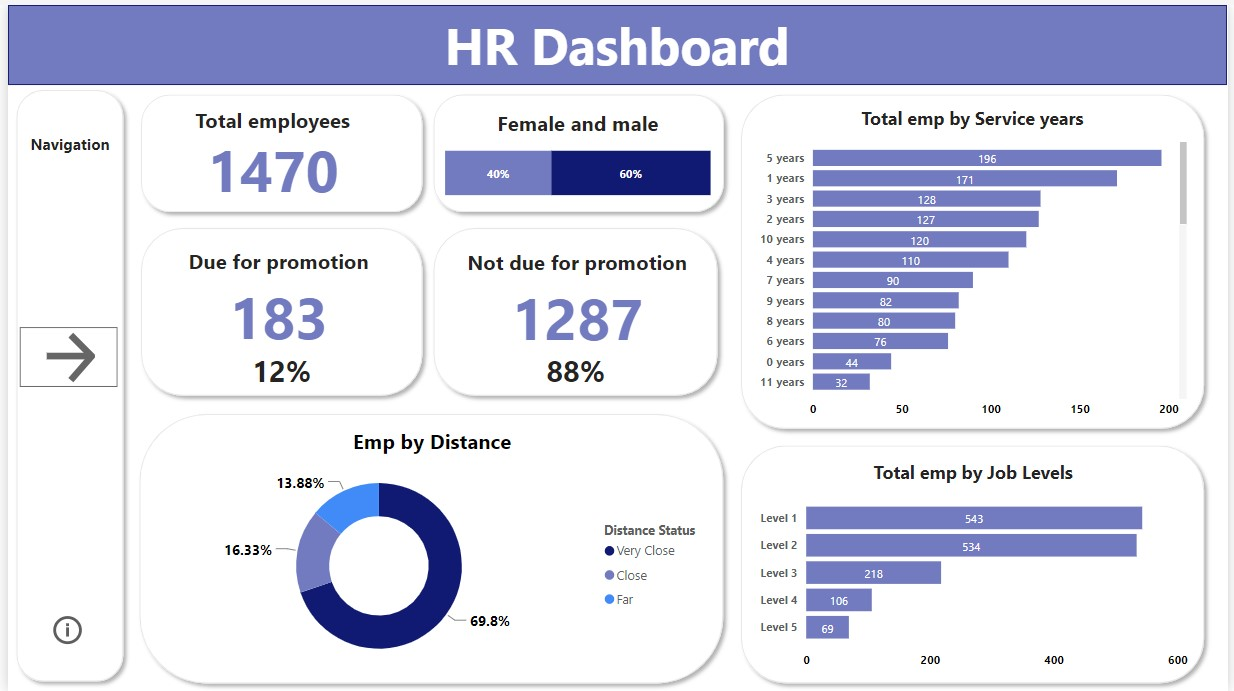

This screenshot's page, from the dashboard's own definition file:
{"tool":"powerbi","page":{"name":"Dashboard1","canvas":[1280,720],"ordinal":0},"visuals":[{"type":"shape","box":[128.7,419.6,631,300.4],"z":0},{"type":"shape","box":[0,0,1279.5,84.2],"z":1000},{"type":"textbox","box":[453,0,454.6,84.2],"z":2000},{"type":"shape","box":[0,81.1,130.3,638.9],"z":3000},{"type":"shape","box":[130.3,84.2,313.1,141.5],"z":4000},{"type":"shape","box":[437.1,84.2,322.6,141.5],"z":5000},{"type":"card","title":"Total employees","fields":{"Values":["All measures.Total emp"]},"box":[124,104.9,306.8,101.7],"z":6000},{"type":"barChart","title":"Female and male","fields":{"Y":["All measures.%Female","All measures.%male"]},"box":[453,108.1,289.3,98.5],"z":7000},{"type":"shape","box":[130.3,225.7,313.1,193.9],"z":8000},{"type":"card","title":"Due for promotion","fields":{"Values":["All measures.Due for promotion"]},"box":[130.3,252.7,306.8,112.8],"z":9000},{"type":"shape","box":[437.1,225.7,316.3,193.9],"z":10000},{"type":"card","title":"Not due for promotion","fields":{"Values":["All measures.Not due for promotion"]},"box":[443.4,254.3,306.8,112.8],"z":11000},{"type":"card","fields":{"Values":["All measures.%notdue"]},"box":[556.3,354.4,79.5,58.8],"z":12000},{"type":"card","fields":{"Values":["All measures.%due"]},"box":[247.9,354.4,79.5,58.8],"z":13000},{"type":"shape","box":[759.7,84.2,503.8,368.7],"z":14000},{"type":"barChart","fields":{"Y":["All measures.Total emp"],"Category":["HR Analytics Data.Service years"]},"box":[782,104.9,459.3,337],"z":15000},{"type":"shape","box":[759.7,453,503.8,267],"z":16000},{"type":"barChart","fields":{"Category":["HR Analytics Data.Job Levels"],"Y":["All measures.Total emp"]},"box":[782,476.8,460.9,228.9],"z":17000},{"type":"donutChart","title":"Emp by Distance","fields":{"Category":["HR Analytics Data.Distance Status"],"Y":["All measures.Total emp"]},"box":[147.8,441.9,594.4,263.8],"z":18000},{"type":"textbox","box":[0,128.7,130.3,50.9],"z":19000},{"type":"actionButton","title":"M","box":[42.9,629.4,39.7,52.5],"z":20000},{"type":"actionButton","box":[12.7,338.5,101.7,62],"z":21000}]}

Visuals, with their boxes in screenshot pixels (x1, y1, x2, y2), scaled from the page's 1280x720 canvas onto the 1234x691 screenshot:
shape: (124,403,732,690)
shape: (0,0,1233,81)
textbox: (437,0,875,81)
shape: (0,78,126,690)
shape: (126,81,427,217)
shape: (421,81,732,217)
"Total employees" card: (120,101,415,198)
"Female and male" barChart: (437,104,716,198)
shape: (126,217,427,403)
"Due for promotion" card: (126,243,421,351)
shape: (421,217,726,403)
"Not due for promotion" card: (427,244,723,352)
card - All measures.%notdue: (536,340,613,397)
card - All measures.%due: (239,340,316,397)
shape: (732,81,1218,435)
barChart - All measures.Total emp x HR Analytics Data.Service years: (754,101,1197,424)
shape: (732,435,1218,690)
barChart - HR Analytics Data.Job Levels x All measures.Total emp: (754,458,1198,677)
"Emp by Distance" donutChart: (142,424,716,677)
textbox: (0,124,126,172)
"M" actionButton: (41,604,80,654)
actionButton: (12,325,110,384)
